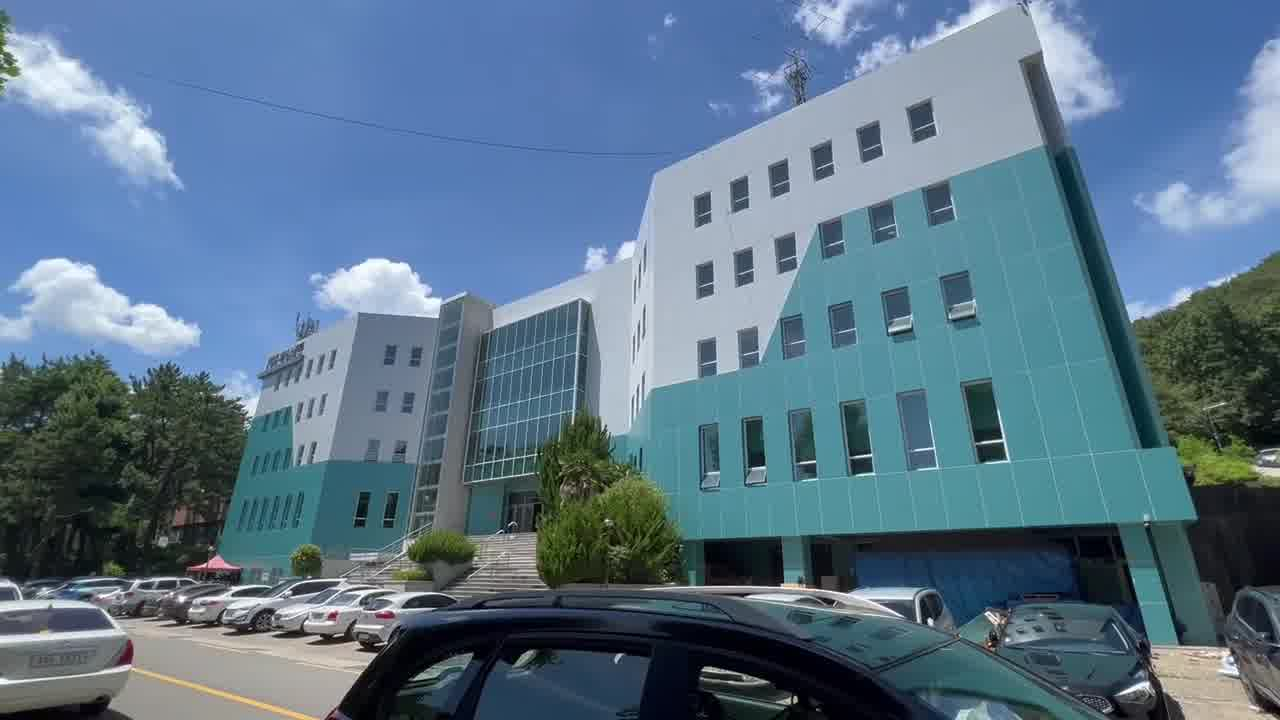medium: (244, 102, 1173, 528)
